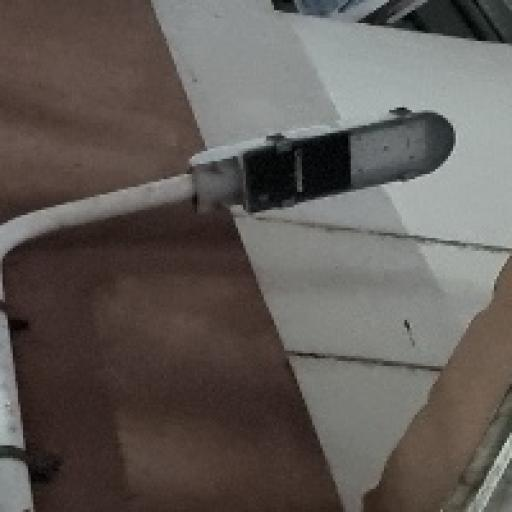Not Working: (171, 88, 469, 252)
